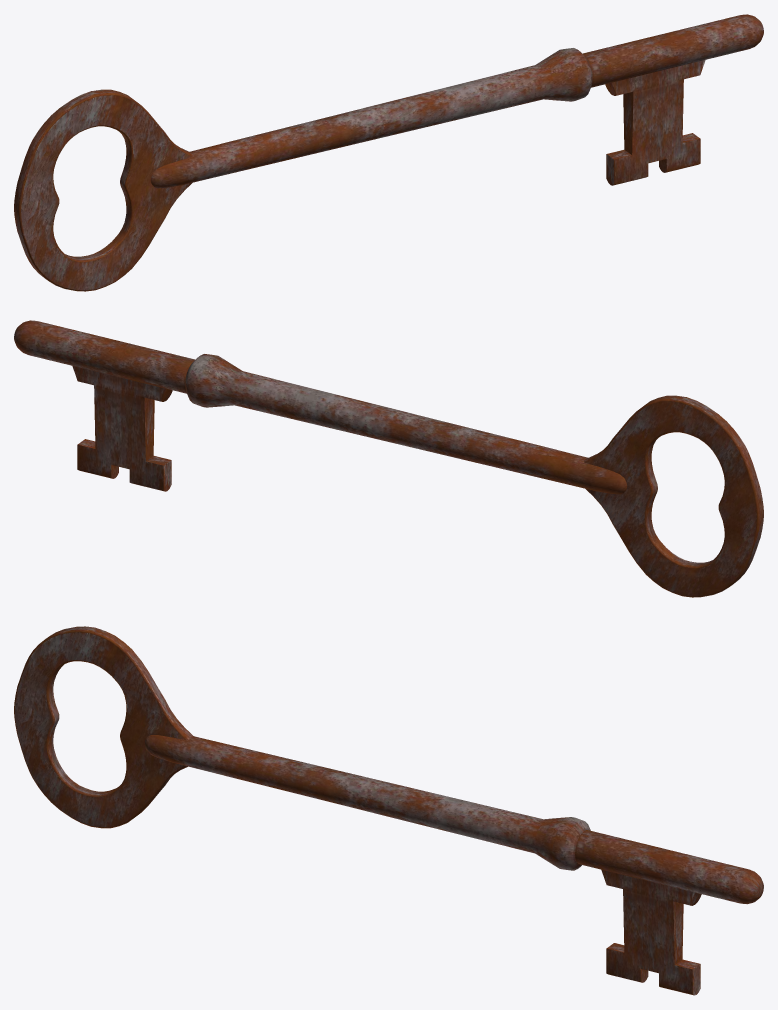
3 views of the same model, one above another, from view 1: azimuth 30°, elevation 25°; view 2: azimuth 150°, elevation 25°; view 3: azimuth 330°, elevation 25° (orthographic).
Parts seen in each view (by area): view 1: key1_low; view 2: key1_low; view 3: key1_low.
Boxes of the visible parts, x1,y1,x2,y2 form: key1_low: [14, 14, 763, 291]; key1_low: [14, 320, 763, 597]; key1_low: [14, 626, 763, 995].
Size of the model in its own units: 19.27 by 5.4 by 1.21.
1 material, 1 textured.
